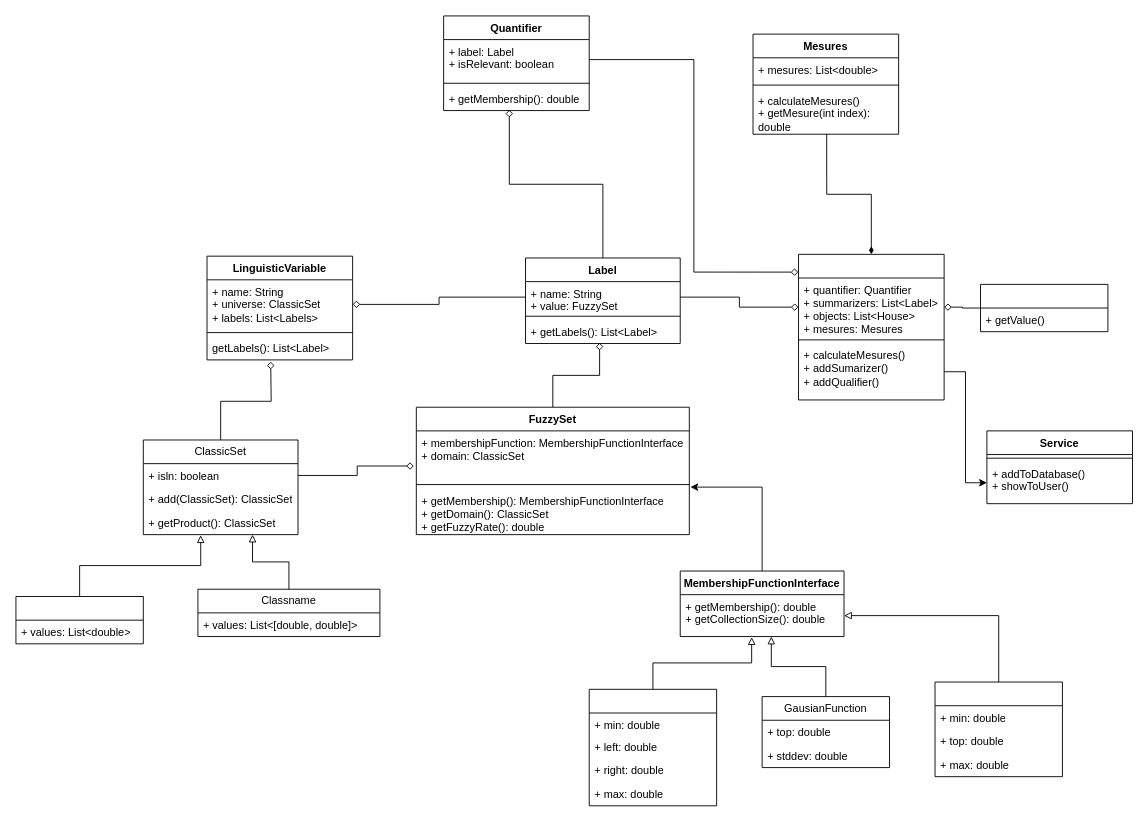
Image size: 1148x824. Some labels were removed from this diagram. Each missing label, with the box of its shape:
Discrete: (15, 596, 143, 644)
House: (980, 283, 1108, 332)
Summary: (798, 253, 944, 400)
TrapezoidalFunction: (588, 688, 717, 806)
TriangularFunction: (934, 681, 1062, 777)
